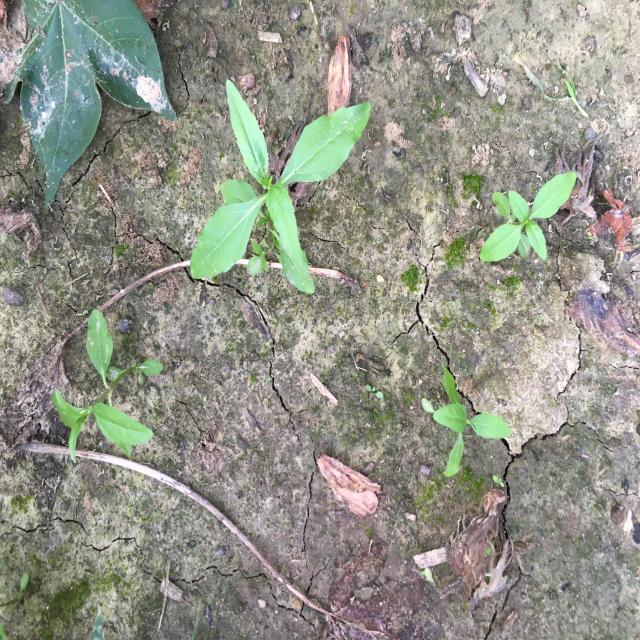Eclipta: (188, 77, 372, 296), (49, 308, 164, 466), (421, 363, 512, 479), (478, 170, 578, 264)
